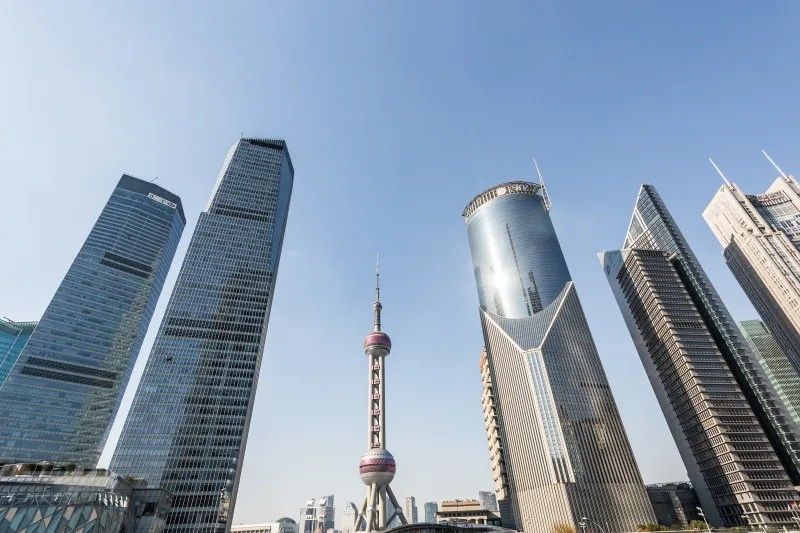Oriental: (354, 250, 409, 533)
